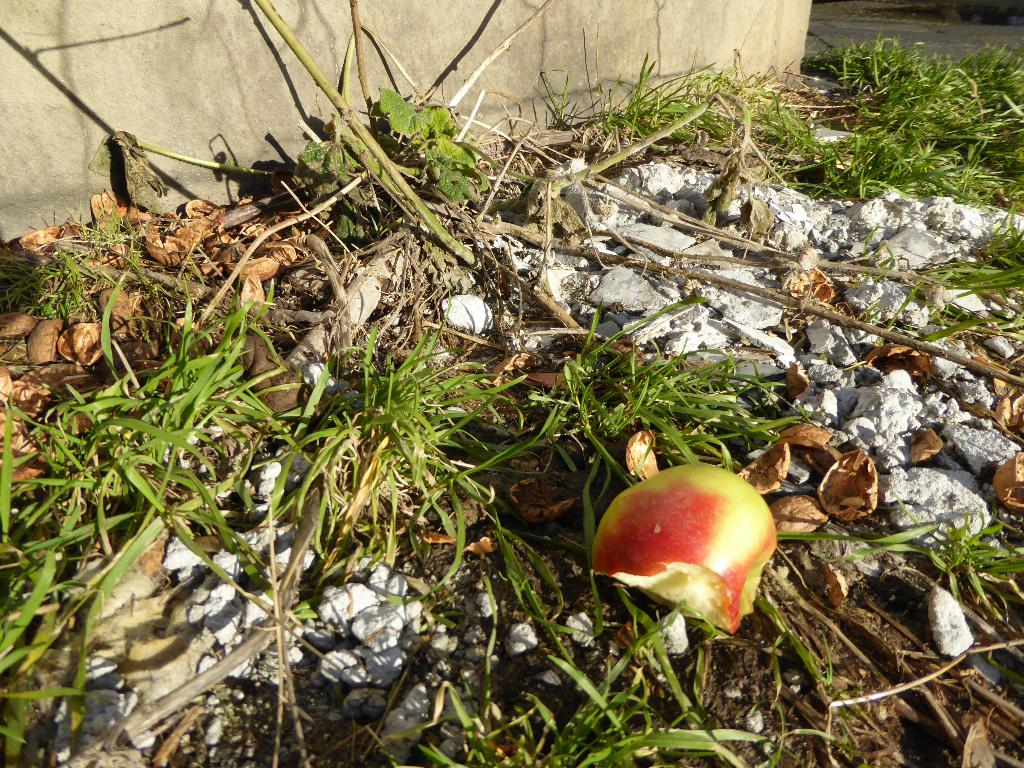Apple: (608, 472, 784, 630)
